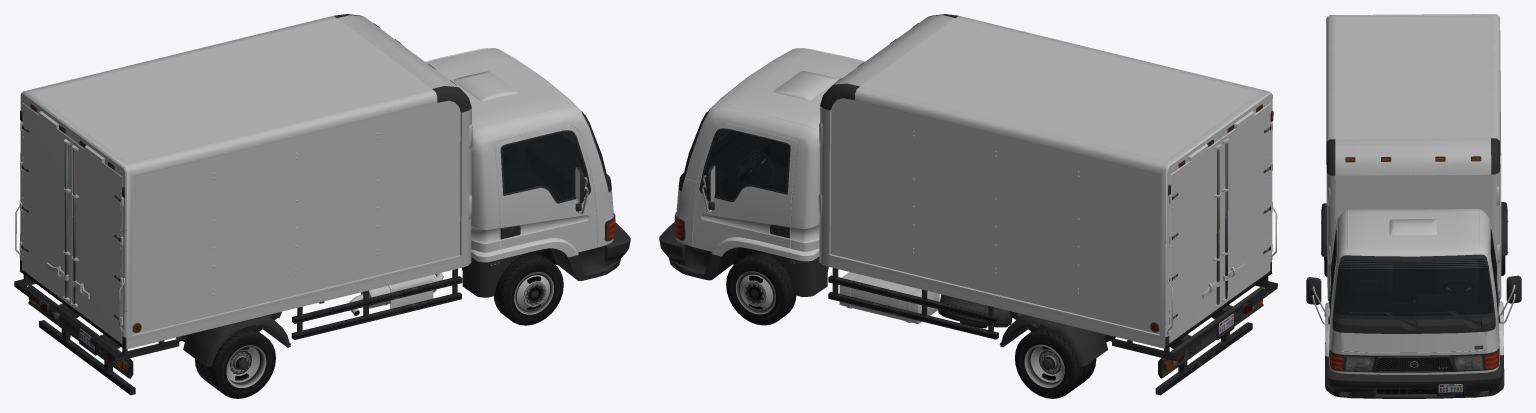
The model's file is boxtruck.glb.
3 renders of one model, left to right at view 1: azimuth 30°, elevation 25°; view 2: azimuth 150°, elevation 25°; view 3: azimuth 270°, elevation 25°, orthographic. The views are drawn at different scales.
Parts seen in each view (by area): view 1: LCT300095_Body_lct3000_Bodymat_0, LCT300095_Bottom_UCB_BOTTOM_0, LCT300095_WheelStock_FL_RB1c_Tire_1k_0, LCT300095_Windshield_UCB_Lights_and_Glass_Transperent_0, LCT300095_Interior_UCB_Interiors_2_0; view 2: LCT300095_Body_lct3000_Bodymat_0, LCT300095_Bottom_UCB_BOTTOM_0, LCT300095_WheelStock_FL_RB1c_Tire_1k_0, LCT300095_Windshield_UCB_Lights_and_Glass_Transperent_0, LCT300095_Interior_UCB_Interiors_2_0; view 3: LCT300095_Body_lct3000_Bodymat_0, LCT300095_Bottom_UCB_BOTTOM_0, LCT300095_Windshield_UCB_Lights_and_Glass_Transperent_0, LCT300095_Interior_UCB_Interiors_2_0, LCT300095_Headlights_UCB_Lights_and_Glass_0, LCT300095_Numberplate_front_Numberplates_Misk_U_0.
Boxes of the visible parts, x1=… form: LCT300095_Body_lct3000_Bodymat_0: x1=19, y1=18, x2=613, y2=343; LCT300095_Bottom_UCB_BOTTOM_0: x1=14, y1=14, x2=630, y2=395; LCT300095_WheelStock_FL_RB1c_Tire_1k_0: x1=195, y1=253, x2=563, y2=398; LCT300095_Windshield_UCB_Lights_and_Glass_Transperent_0: x1=28, y1=114, x2=615, y2=370; LCT300095_Interior_UCB_Interiors_2_0: x1=502, y1=134, x2=605, y2=200; LCT300095_Body_lct3000_Bodymat_0: x1=676, y1=18, x2=1272, y2=343; LCT300095_Bottom_UCB_BOTTOM_0: x1=659, y1=14, x2=1277, y2=395; LCT300095_WheelStock_FL_RB1c_Tire_1k_0: x1=726, y1=252, x2=1096, y2=398; LCT300095_Windshield_UCB_Lights_and_Glass_Transperent_0: x1=674, y1=112, x2=1262, y2=370; LCT300095_Interior_UCB_Interiors_2_0: x1=685, y1=132, x2=788, y2=199; LCT300095_Body_lct3000_Bodymat_0: x1=1325, y1=14, x2=1503, y2=374; LCT300095_Bottom_UCB_BOTTOM_0: x1=1306, y1=14, x2=1521, y2=398; LCT300095_Windshield_UCB_Lights_and_Glass_Transperent_0: x1=1329, y1=232, x2=1499, y2=371; LCT300095_Interior_UCB_Interiors_2_0: x1=1331, y1=239, x2=1497, y2=316; LCT300095_Headlights_UCB_Lights_and_Glass_0: x1=1329, y1=350, x2=1499, y2=371; LCT300095_Numberplate_front_Numberplates_Misk_U_0: x1=1438, y1=384, x2=1462, y2=394.
Bounding box in the file's own units: 6.02 × 2.85 × 2.61.
8 materials, 7 textured.
